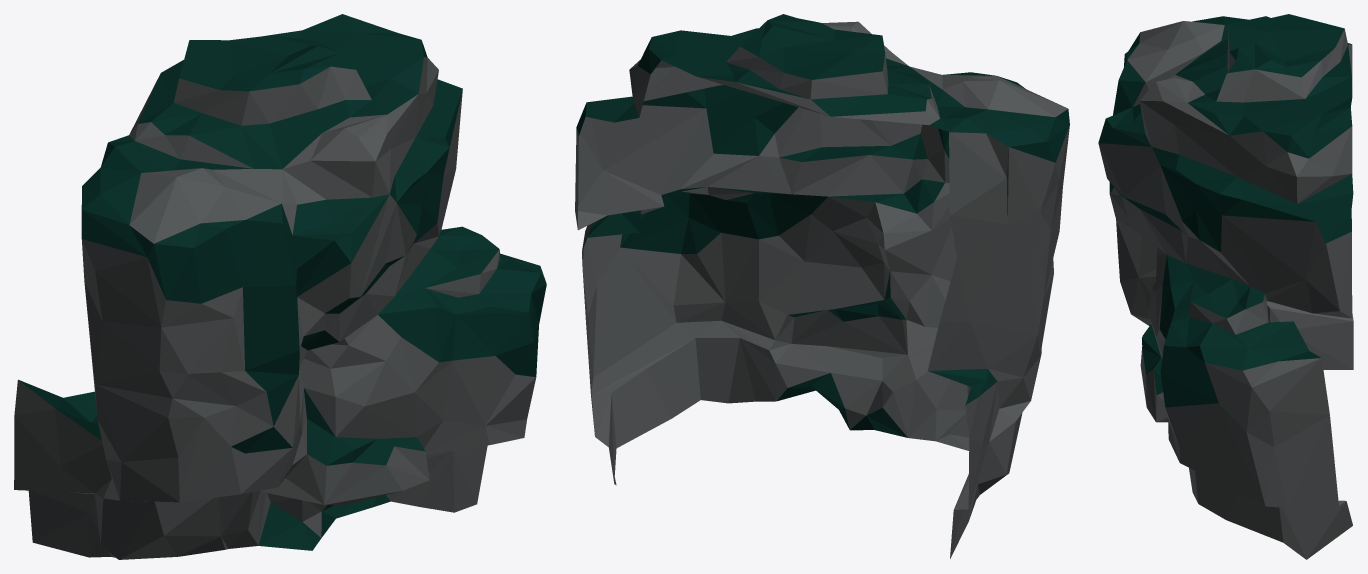
File: MCastle_CliffRock_Lrg_02.FBX
3 views of the same model, side by side, from view 1: azimuth 30°, elevation 25°; view 2: azimuth 150°, elevation 25°; view 3: azimuth 270°, elevation 25° (orthographic). The views are drawn at different scales.
Parts seen in each view (by area): view 1: MCastle_CliffRock_Lrg_02_LOD0; view 2: MCastle_CliffRock_Lrg_02_LOD0; view 3: MCastle_CliffRock_Lrg_02_LOD0.
Part boxes in pixels (bbox=[...]): MCastle_CliffRock_Lrg_02_LOD0: bbox=[14, 14, 546, 559]; MCastle_CliffRock_Lrg_02_LOD0: bbox=[575, 14, 1069, 558]; MCastle_CliffRock_Lrg_02_LOD0: bbox=[1098, 14, 1353, 559].
Size of what is drawn, in the model's own units: 15.89 by 16.1 by 8.51.
